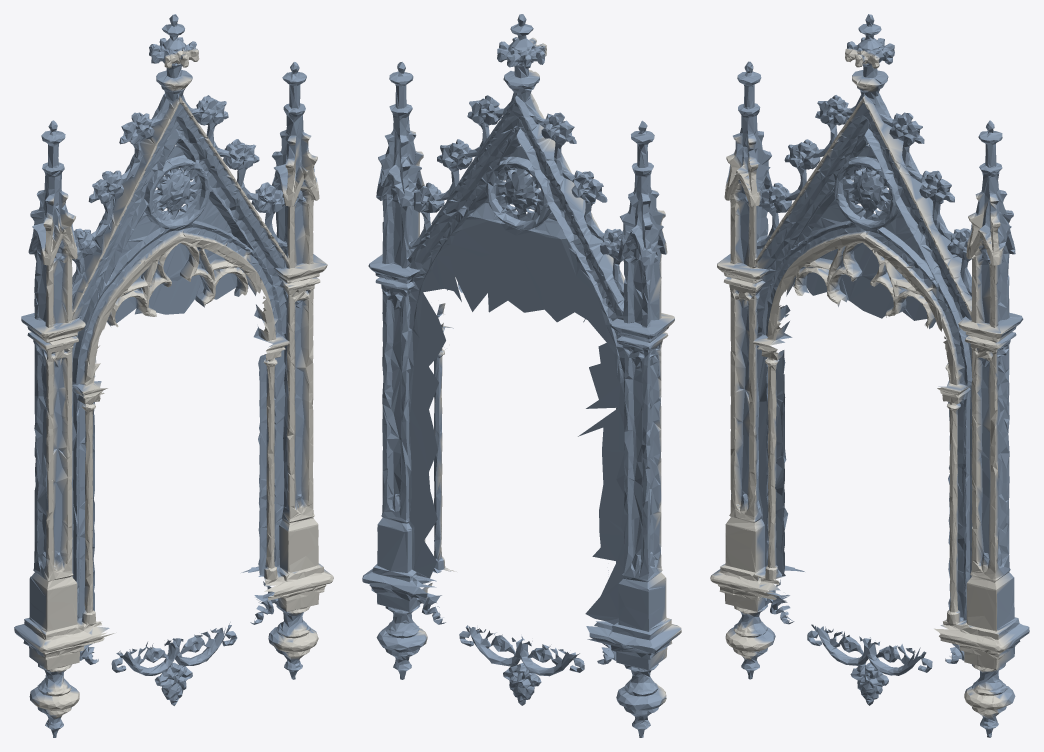
File: victorian-frame.glb
3 views of the same model, side by side, from view 1: azimuth 30°, elevation 25°; view 2: azimuth 150°, elevation 25°; view 3: azimuth 330°, elevation 25° (orthographic).
Visible parts, largest first — view 1: world; view 2: world; view 3: world.
Part boxes in pixels (left/top/right/bottom): world: left=14, top=14, right=333, bottom=737; world: left=362, top=14, right=681, bottom=737; world: left=710, top=14, right=1029, bottom=737.
Bounding box in the file's own units: 0.8422 × 1.9 × 0.154.
